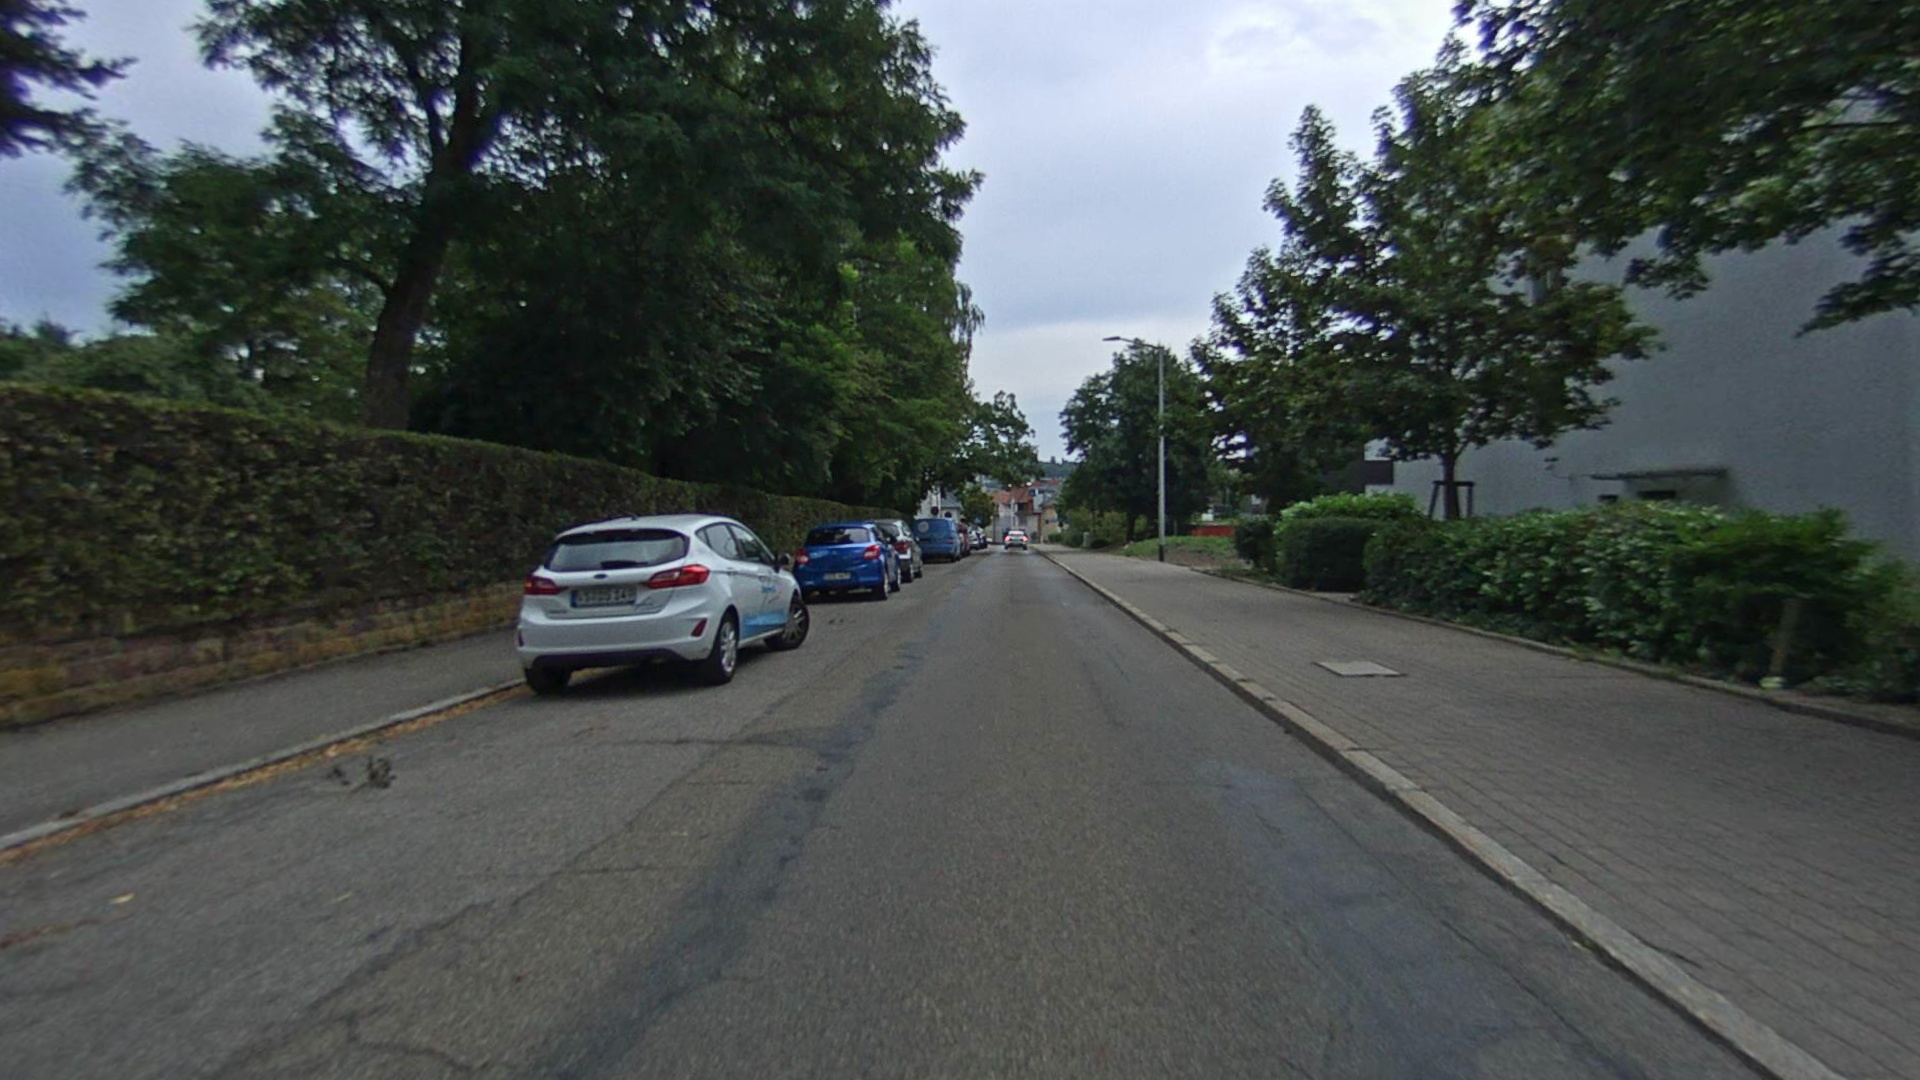car: (510, 512, 812, 694)
